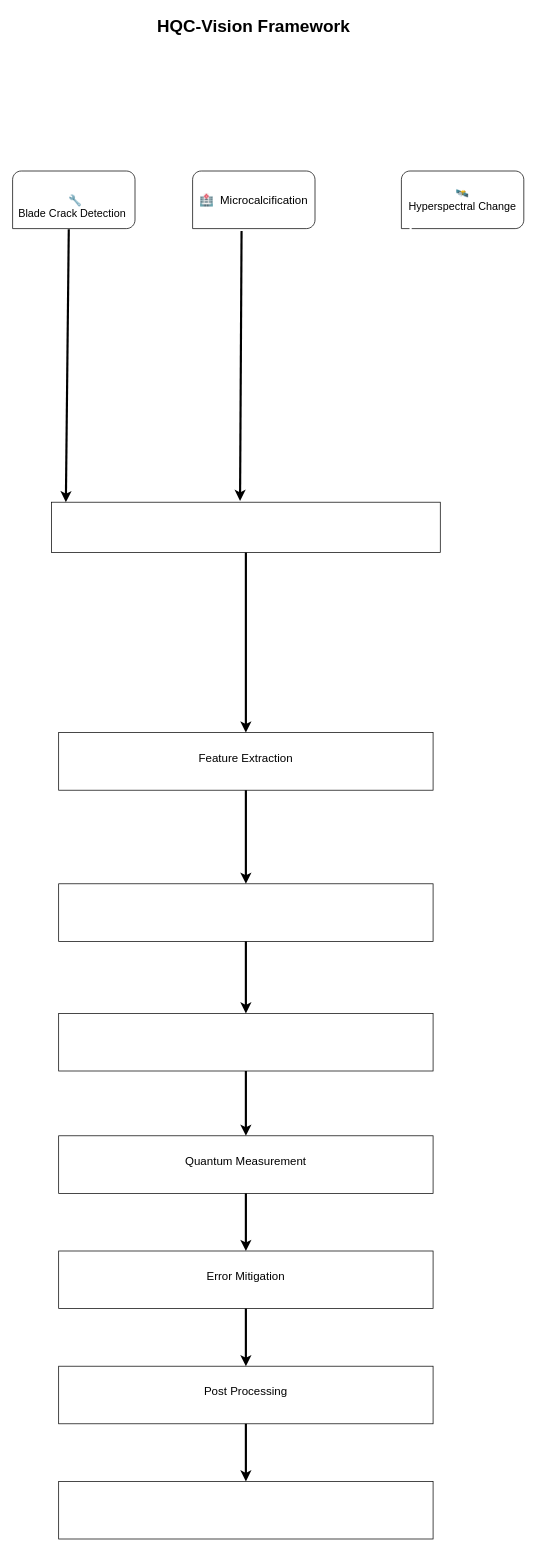
Image size: 536x1552. Some labels were removed from this diagram. Here are the shapes that lost their labels. From the top down, the centre of each, then its label:
pixel 245 527: Image Preprocessing
pixel 245 912: Quantum Feature Encoding
pixel 245 1042: Grover Search Algorithm
pixel 245 1510: Visualization &Detection Results
